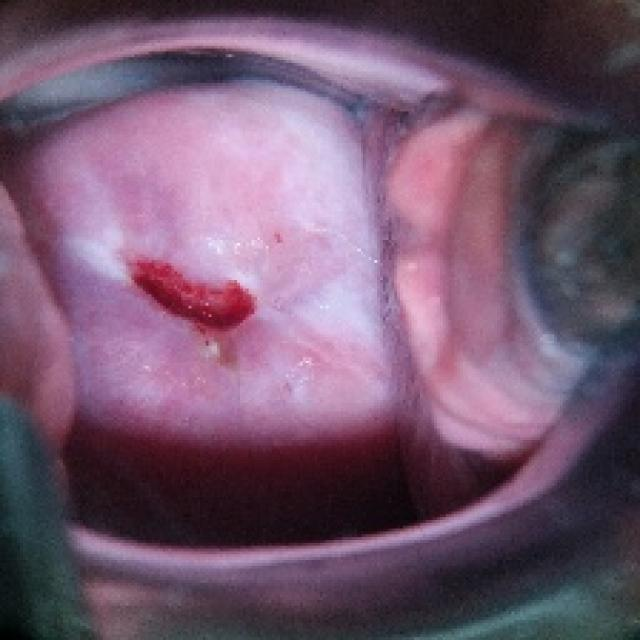type-2: (23, 94, 406, 502)
